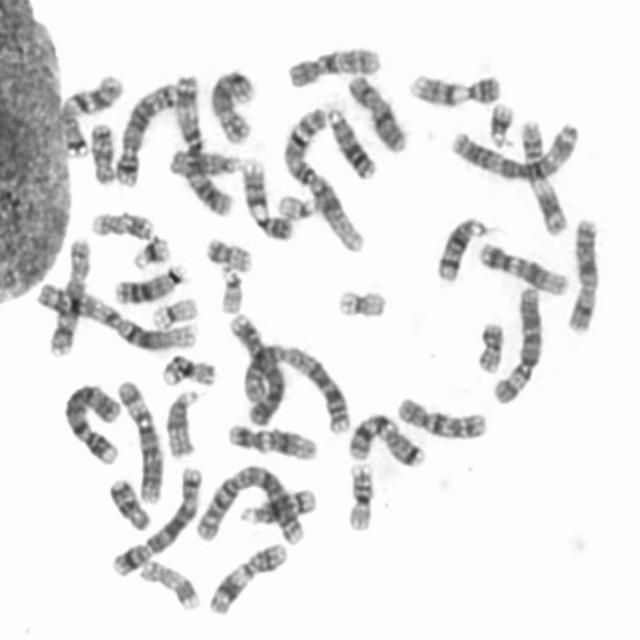A1: (277, 100, 368, 254), (31, 276, 201, 352)
A2: (232, 335, 354, 435), (189, 458, 310, 546)
A3: (167, 66, 236, 218), (444, 114, 582, 183)
B4: (223, 306, 287, 428), (57, 376, 124, 466)
B5: (106, 459, 203, 578), (110, 74, 181, 187)
C10: (391, 389, 490, 442), (281, 39, 383, 89)
C11: (201, 535, 290, 617), (514, 112, 571, 237)
C12: (472, 235, 571, 298), (221, 416, 319, 462)
C6: (486, 278, 544, 406), (111, 372, 166, 506)
C7: (52, 66, 125, 158), (341, 406, 428, 468)
C8: (43, 230, 94, 357), (204, 62, 258, 146)
C9: (236, 152, 297, 241), (403, 64, 504, 109)
D13: (320, 100, 378, 181), (108, 256, 189, 306)
D14: (430, 209, 488, 284), (234, 480, 320, 527)
D15: (159, 384, 201, 459), (161, 141, 244, 178)
E16: (340, 456, 376, 532), (155, 348, 218, 388)
E17: (134, 552, 202, 612), (86, 204, 157, 242)
E18: (102, 470, 153, 532), (84, 116, 118, 185)
F19: (330, 280, 389, 319), (146, 290, 199, 330)
F20: (199, 230, 255, 273), (470, 314, 506, 374)
G21: (481, 94, 517, 150), (127, 228, 172, 270)
G22: (213, 260, 246, 315), (272, 188, 321, 222)
X: (341, 66, 411, 154), (560, 210, 602, 335)
